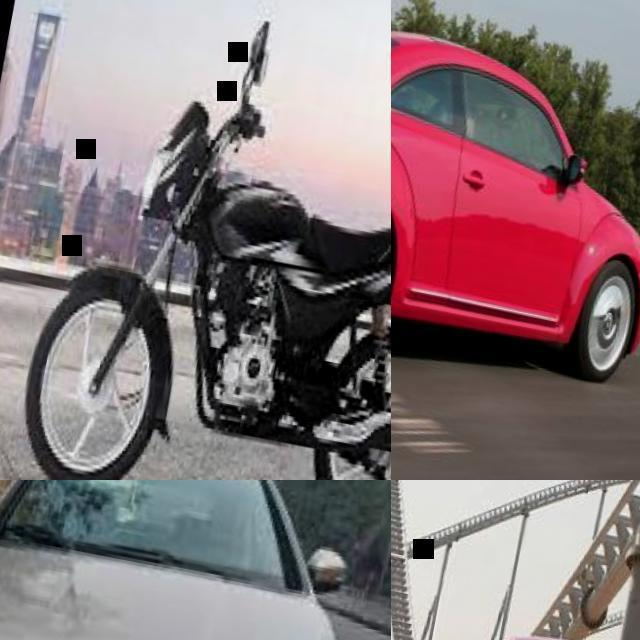car: (387, 29, 640, 385), (21, 257, 173, 478)
